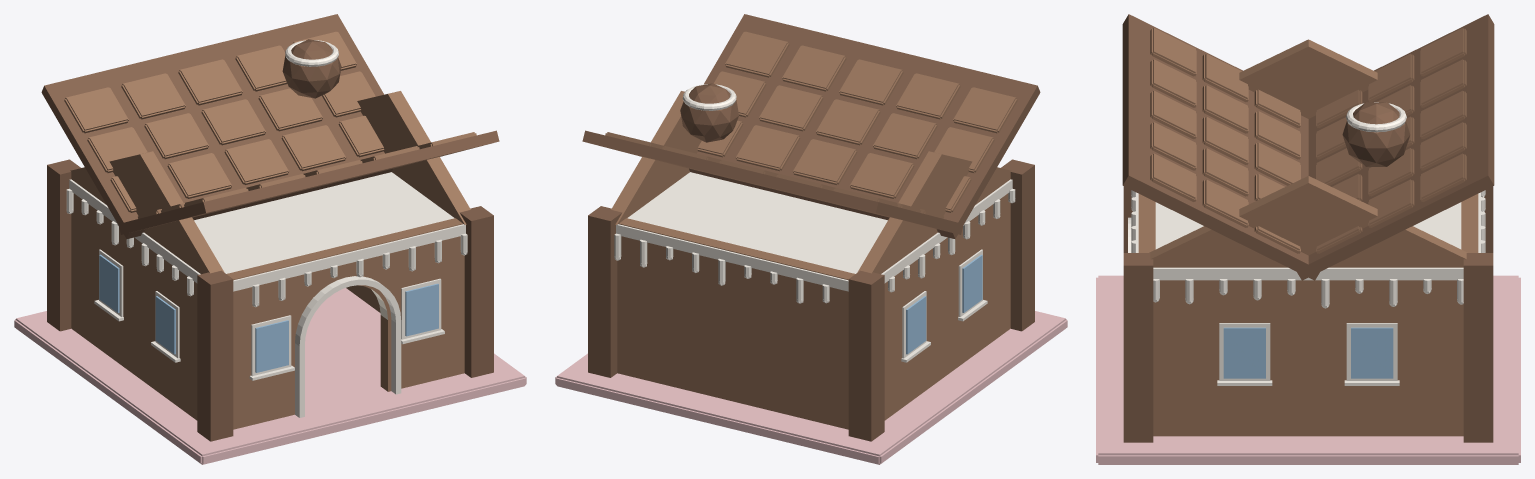
File: HOB_Bld_ChocoHouse.fbx
3 renders of one model, left to right at view 1: azimuth 30°, elevation 25°; view 2: azimuth 150°, elevation 25°; view 3: azimuth 270°, elevation 25°, orthographic. The views are drawn at different scales.
Visible parts, largest first — view 1: HOB_Bld_ChocoHouse; view 2: HOB_Bld_ChocoHouse; view 3: HOB_Bld_ChocoHouse.
Part boxes in pixels (x1,y1,x2,y2): HOB_Bld_ChocoHouse: [14, 14, 526, 464]; HOB_Bld_ChocoHouse: [555, 14, 1067, 464]; HOB_Bld_ChocoHouse: [1096, 14, 1520, 464].
Bounding box in the file's own units: 1000 × 810 × 1000.
